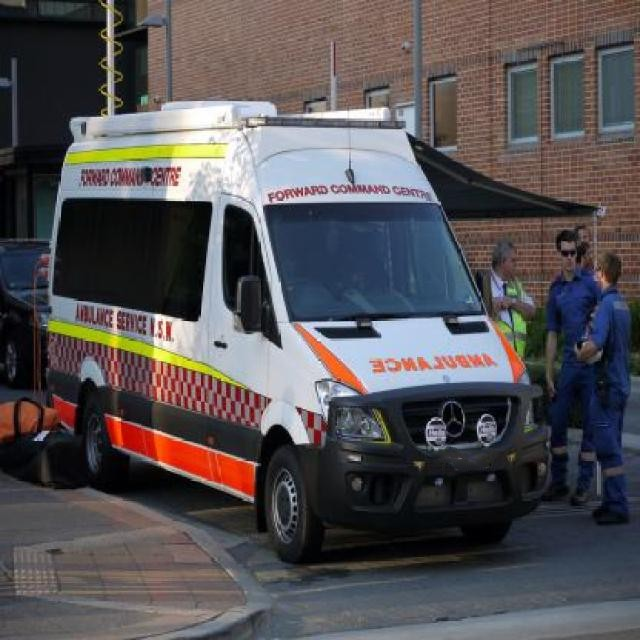car: (42, 96, 541, 560)
